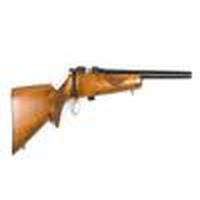gun: (5, 64, 195, 161)
